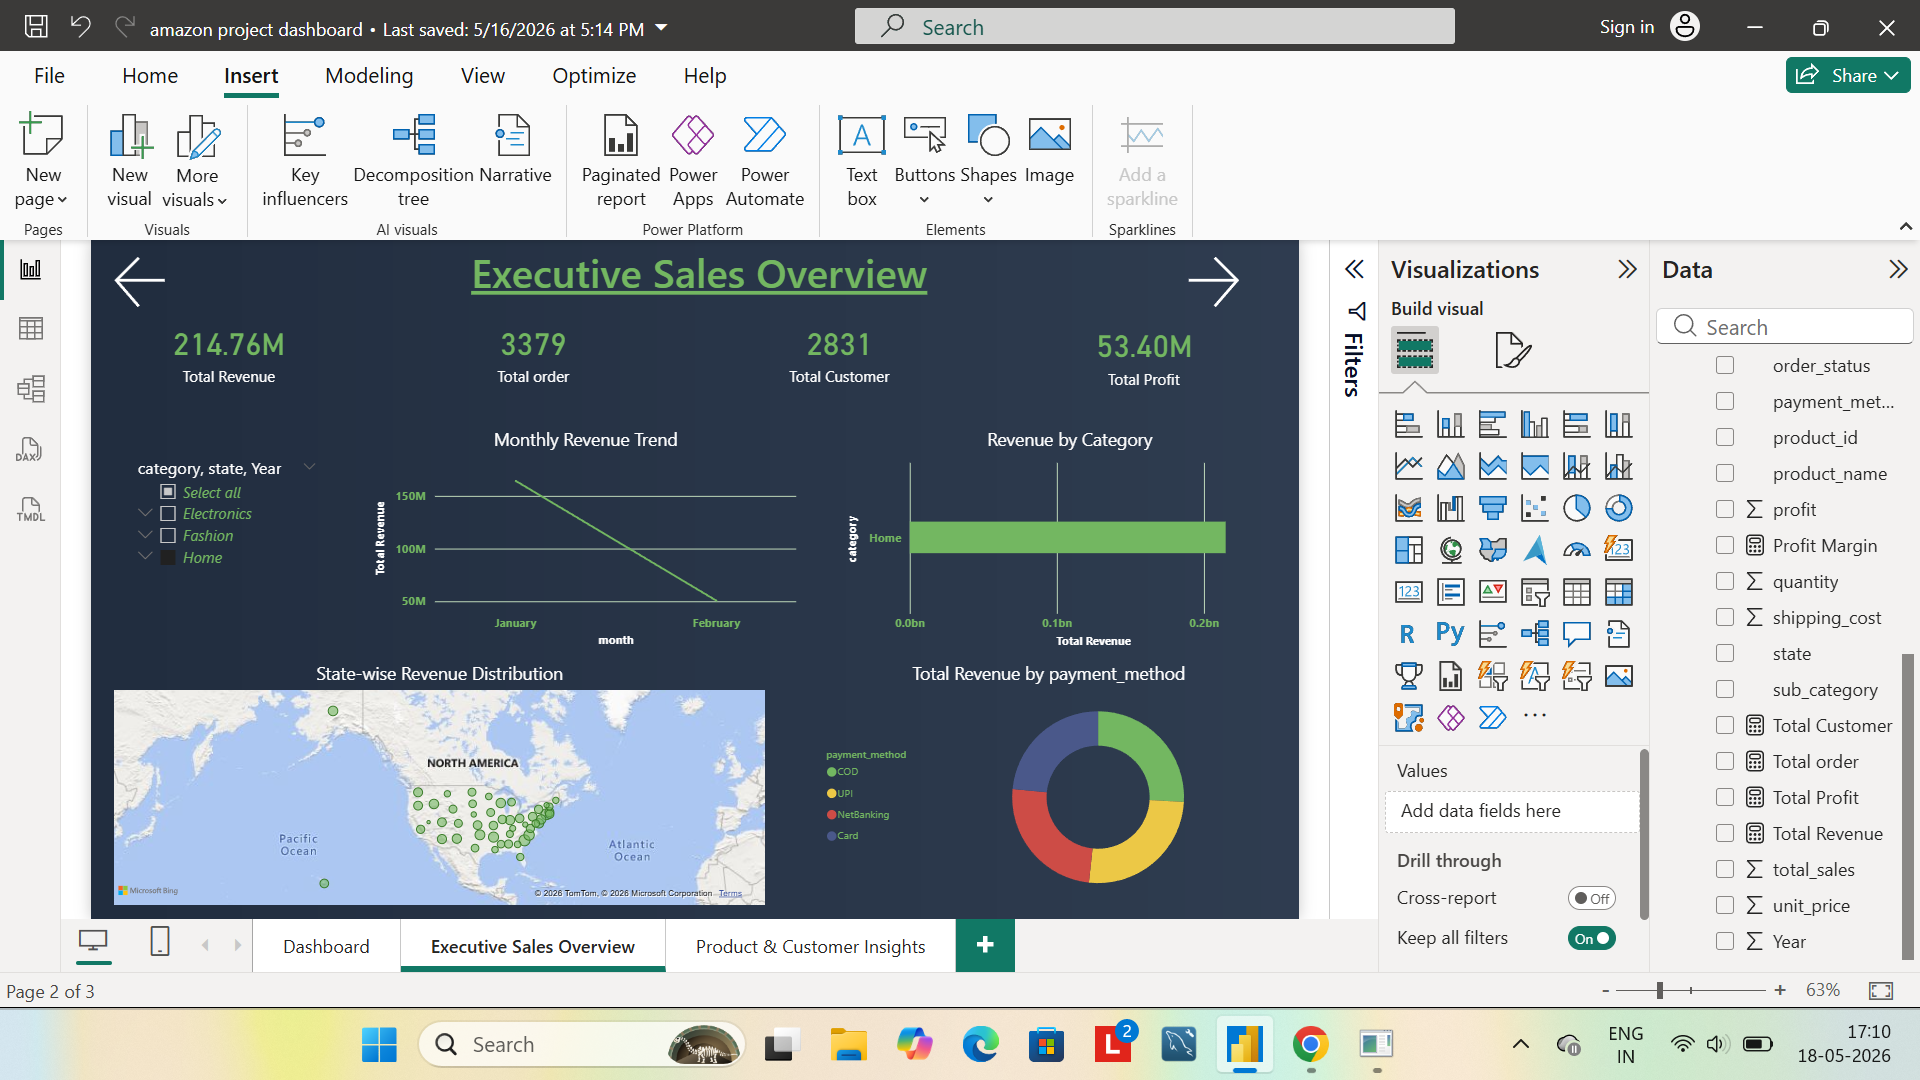

The dashboard page shown, as its layout file describes it:
{"tool":"powerbi","page":{"name":"Executive Sales Overview","canvas":[1280,720],"ordinal":1},"visuals":[{"type":"card","fields":{"Values":["cleaned_amazon_sales.Total Revenue"]},"box":[308.6,82.7,216.3,101.8],"z":0},{"type":"card","fields":{"Values":["cleaned_amazon_sales.Total Customer"]},"box":[801.7,82.7,214.7,101.8],"z":1000},{"type":"card","fields":{"Values":["cleaned_amazon_sales.Total order"]},"box":[558.3,82.7,216.3,101.8],"z":2000},{"type":"card","fields":{"Values":["cleaned_amazon_sales.Total Profit"]},"box":[1040.3,77.9,216.3,106.6],"z":3000},{"type":"barChart","title":"Monthly Revenue Trend","fields":{"Category":["cleaned_amazon_sales.month"],"Y":["cleaned_amazon_sales.Total Revenue"]},"box":[295.9,200.4,458.1,237],"z":4000},{"type":"stackedAreaChart","title":"Revenue by Category","fields":{"Category":["cleaned_amazon_sales.category"],"Y":["cleaned_amazon_sales.Total Revenue"]},"box":[774.6,198.8,482,238.6],"z":5000},{"type":"map","title":"State-wise Revenue Distribution","fields":{"Size":["cleaned_amazon_sales.Total Revenue"],"Category":["cleaned_amazon_sales.state"]},"box":[19.1,447,734.9,262.5],"z":6000},{"type":"donutChart","fields":{"Y":["cleaned_amazon_sales.Total Revenue"],"Category":["cleaned_amazon_sales.payment_method"]},"box":[774.6,447,482,262.5],"z":7000},{"type":"actionButton","box":[0,0,100.2,66.8],"z":8000},{"type":"textbox","box":[100.2,0,1056.2,77.9],"z":9000},{"type":"actionButton","box":[1180.2,0,100.2,66.8],"z":10000},{"type":"slicer","fields":{"Values":["cleaned_amazon_sales.category"]},"box":[160.7,262.5,124.1,173.4],"z":11000},{"type":"slicer","fields":{"Values":["cleaned_amazon_sales.state"]},"box":[19.1,82.7,125.7,353.1],"z":12000},{"type":"slicer","fields":{"Values":["cleaned_amazon_sales.month"]},"box":[160.7,82.7,124.1,149.5],"z":13000}]}

Visuals, with their boxes on the page's 1280x720 design canvas (x1, y1, x2, y2). These are canvas units, not pixel positions in the 1920x1080 screenshot, which may show the page scaled, cropped or inside an application window:
card - cleaned_amazon_sales.Total Revenue: (left=309, top=83, right=525, bottom=184)
card - cleaned_amazon_sales.Total Customer: (left=802, top=83, right=1016, bottom=184)
card - cleaned_amazon_sales.Total order: (left=558, top=83, right=775, bottom=184)
card - cleaned_amazon_sales.Total Profit: (left=1040, top=78, right=1257, bottom=184)
"Monthly Revenue Trend" barChart: (left=296, top=200, right=754, bottom=437)
"Revenue by Category" stackedAreaChart: (left=775, top=199, right=1257, bottom=437)
"State-wise Revenue Distribution" map: (left=19, top=447, right=754, bottom=710)
donutChart - cleaned_amazon_sales.Total Revenue x cleaned_amazon_sales.payment_method: (left=775, top=447, right=1257, bottom=710)
actionButton: (left=0, top=0, right=100, bottom=67)
textbox: (left=100, top=0, right=1156, bottom=78)
actionButton: (left=1180, top=0, right=1280, bottom=67)
slicer - cleaned_amazon_sales.category: (left=161, top=262, right=285, bottom=436)
slicer - cleaned_amazon_sales.state: (left=19, top=83, right=145, bottom=436)
slicer - cleaned_amazon_sales.month: (left=161, top=83, right=285, bottom=232)
